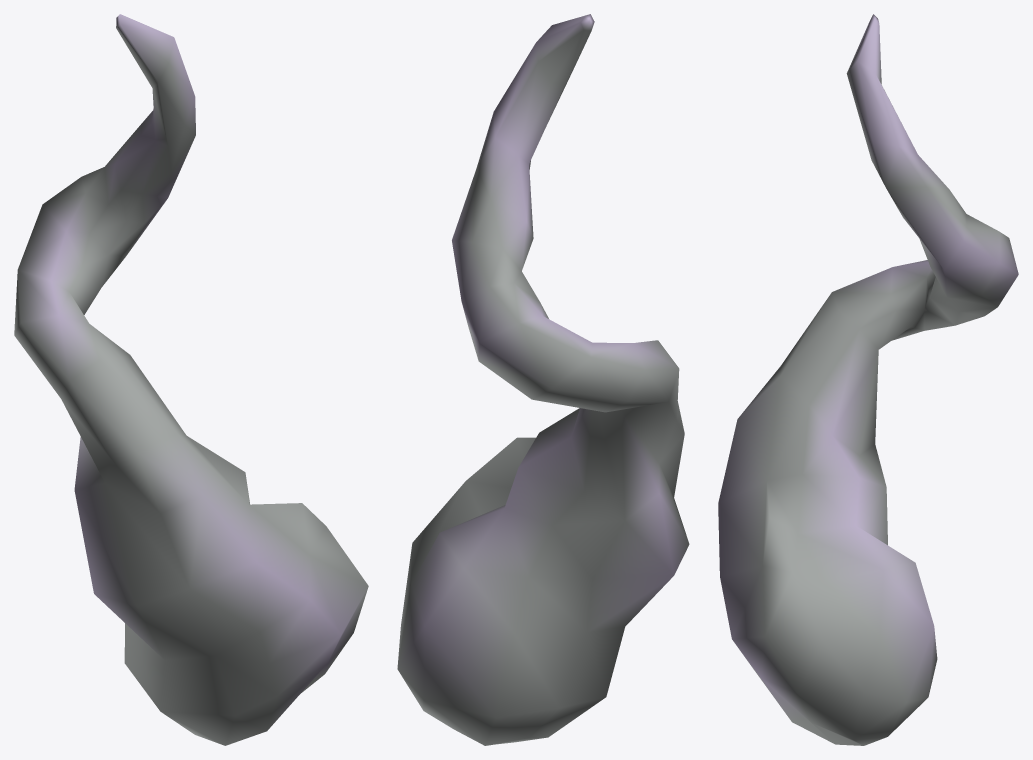
3 renders of one model, left to right at view 1: azimuth 30°, elevation 25°; view 2: azimuth 150°, elevation 25°; view 3: azimuth 270°, elevation 25°, orthographic. The views are drawn at different scales.
Parts seen in each view (by area): view 1: G:\FFXIV-MapTools\exports\a2f2\bg\ex1\03_abr_a2\fld\a2f2\bgp; view 2: G:\FFXIV-MapTools\exports\a2f2\bg\ex1\03_abr_a2\fld\a2f2\bgp; view 3: G:\FFXIV-MapTools\exports\a2f2\bg\ex1\03_abr_a2\fld\a2f2\bgp.
Part boxes in pixels (x1,y1,x2,y2): G:\FFXIV-MapTools\exports\a2f2\bg\ex1\03_abr_a2\fld\a2f2\bgp: (14, 14, 368, 745); G:\FFXIV-MapTools\exports\a2f2\bg\ex1\03_abr_a2\fld\a2f2\bgp: (397, 14, 689, 745); G:\FFXIV-MapTools\exports\a2f2\bg\ex1\03_abr_a2\fld\a2f2\bgp: (718, 14, 1018, 745).
Bounding box in the file's own units: 0.917 × 2.35 × 0.9348.
